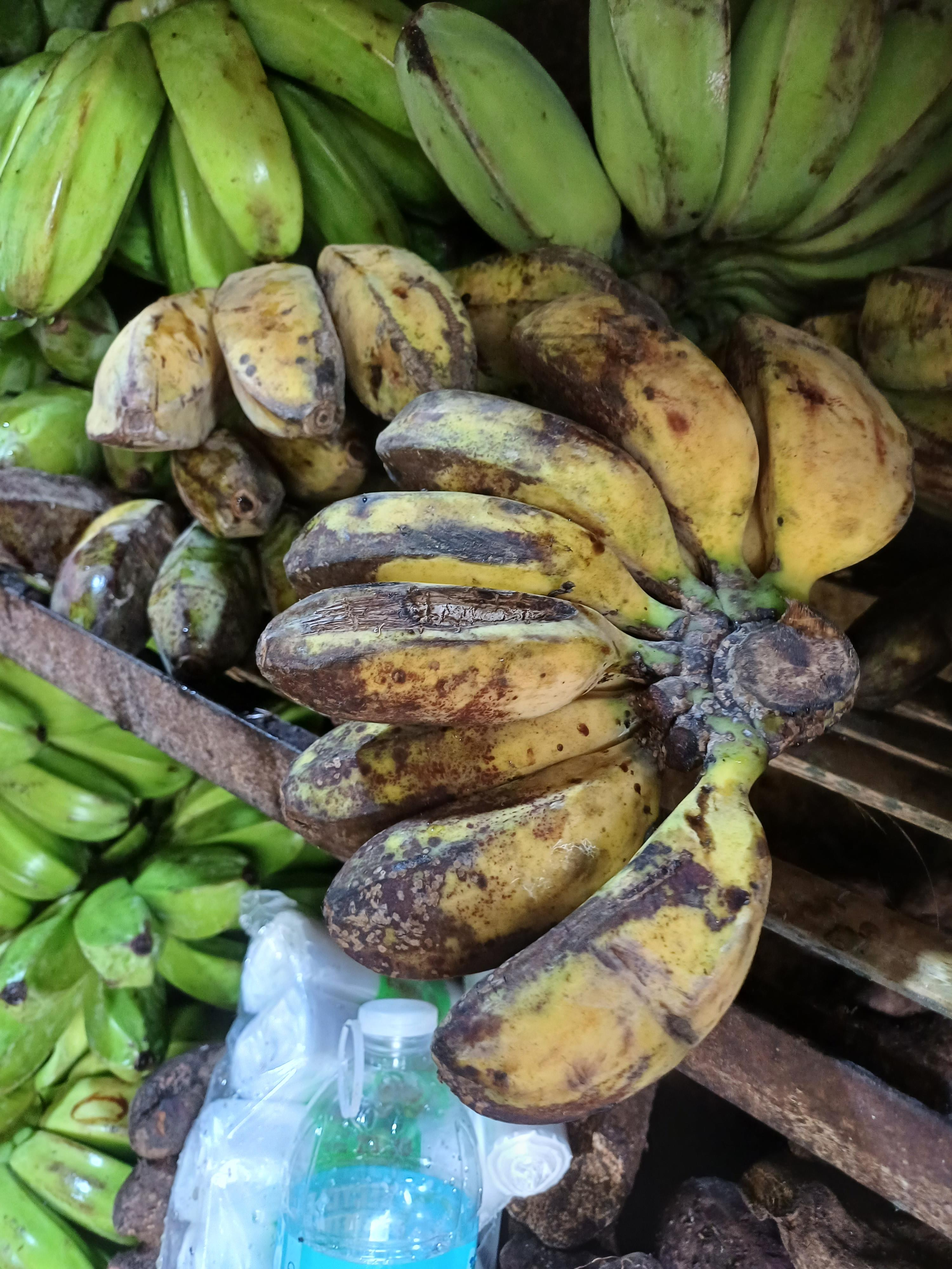overripe: (87, 244, 615, 538), (213, 264, 346, 441)
underripe: (258, 293, 913, 1121), (394, 0, 952, 282), (0, 0, 463, 324), (0, 779, 304, 1091), (0, 658, 192, 933), (1, 1075, 136, 1269)
